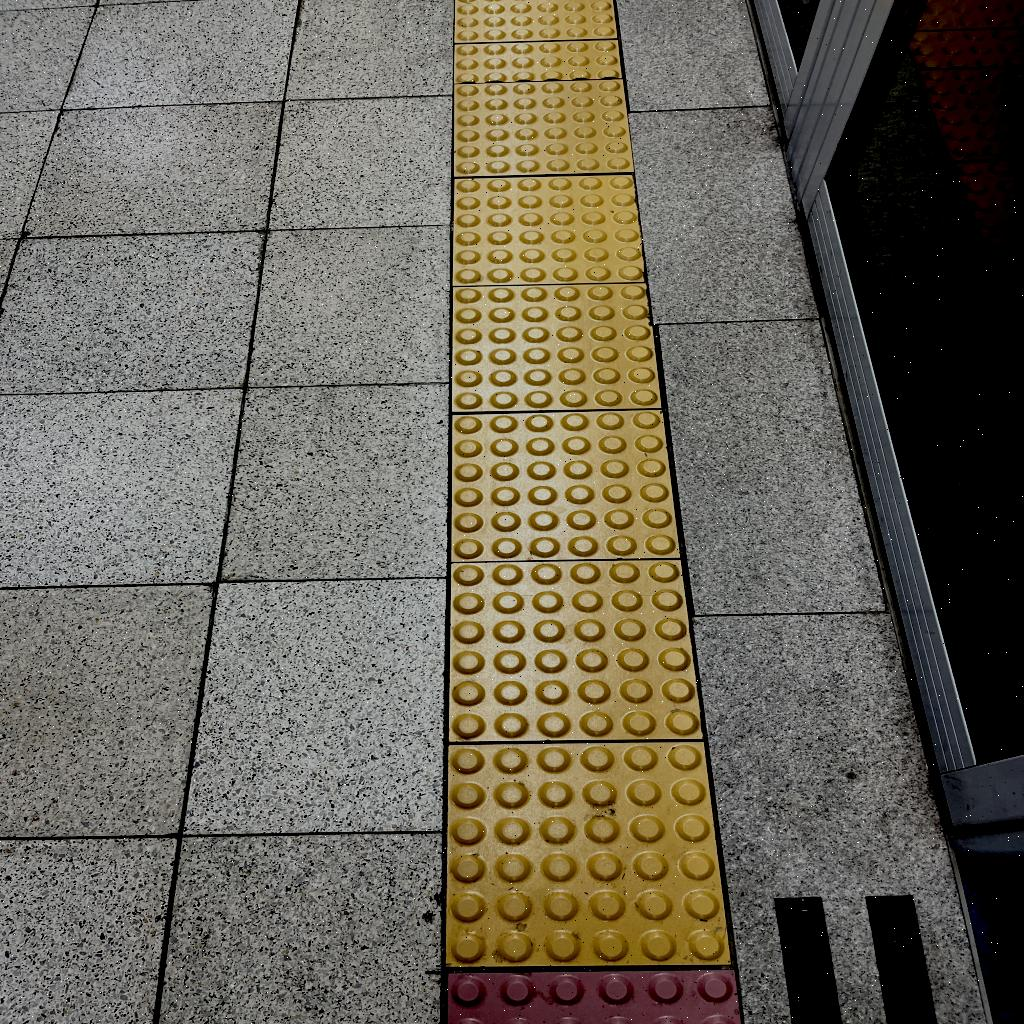Stop block normal: (445, 743, 731, 965), (449, 560, 702, 739), (450, 410, 680, 560), (450, 283, 660, 410), (452, 175, 644, 284), (453, 80, 633, 176)
